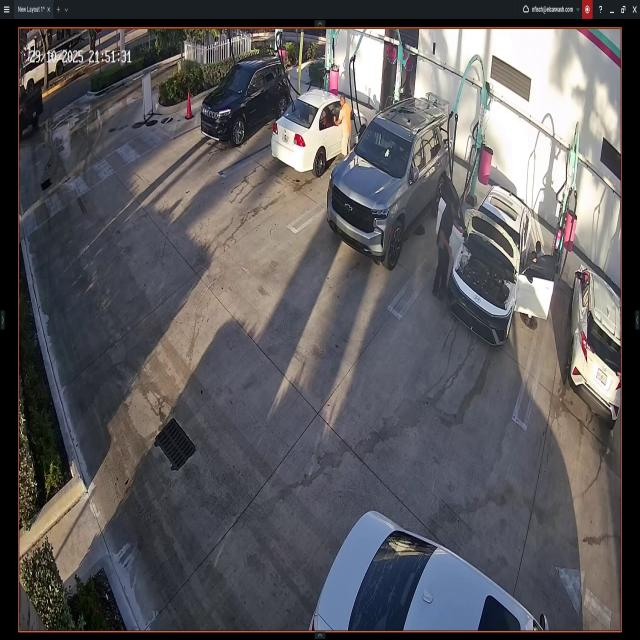Car: (307, 511, 550, 634), (329, 100, 454, 265), (446, 180, 542, 346), (201, 51, 292, 150), (569, 259, 621, 425), (272, 87, 368, 171), (18, 79, 43, 130)
